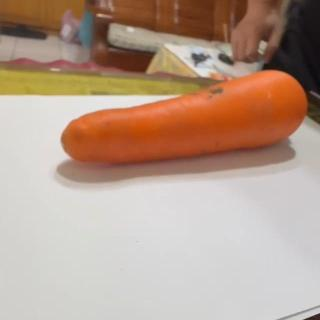carrot: (59, 68, 309, 165)
